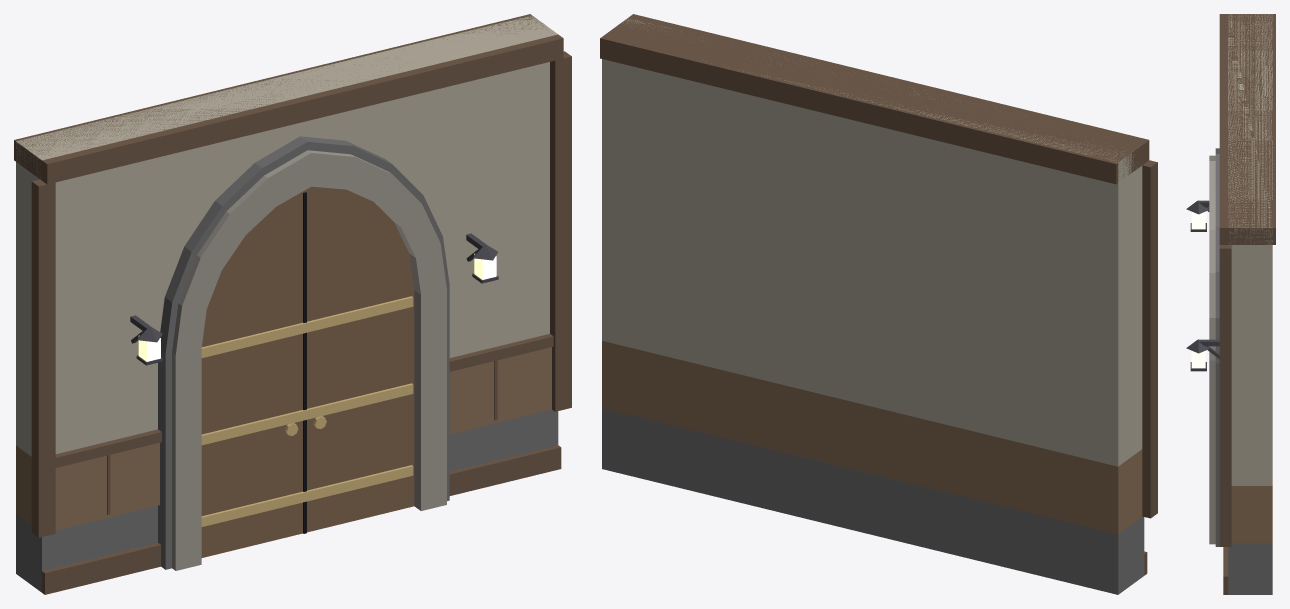
File: hall_portal.glb
3 views of the same model, side by side, from view 1: azimuth 30°, elevation 25°; view 2: azimuth 150°, elevation 25°; view 3: azimuth 270°, elevation 25° (orthographic). The views are drawn at different scales.
Parts seen in each view (by area): view 1: Upper, Plinth; view 2: Upper, Plinth; view 3: Upper, Plinth.
Boxes of the visible parts, x1=… form: Upper: x1=14, y1=14, x2=571, y2=570; Plinth: x1=16, y1=409, x2=561, y2=594; Upper: x1=600, y1=14, x2=1157, y2=533; Plinth: x1=602, y1=408, x2=1147, y2=594; Upper: x1=1186, y1=14, x2=1275, y2=546; Plinth: x1=1223, y1=543, x2=1272, y2=594.
Size of the model in its own units: 8.26 by 6.4 by 1.42.
